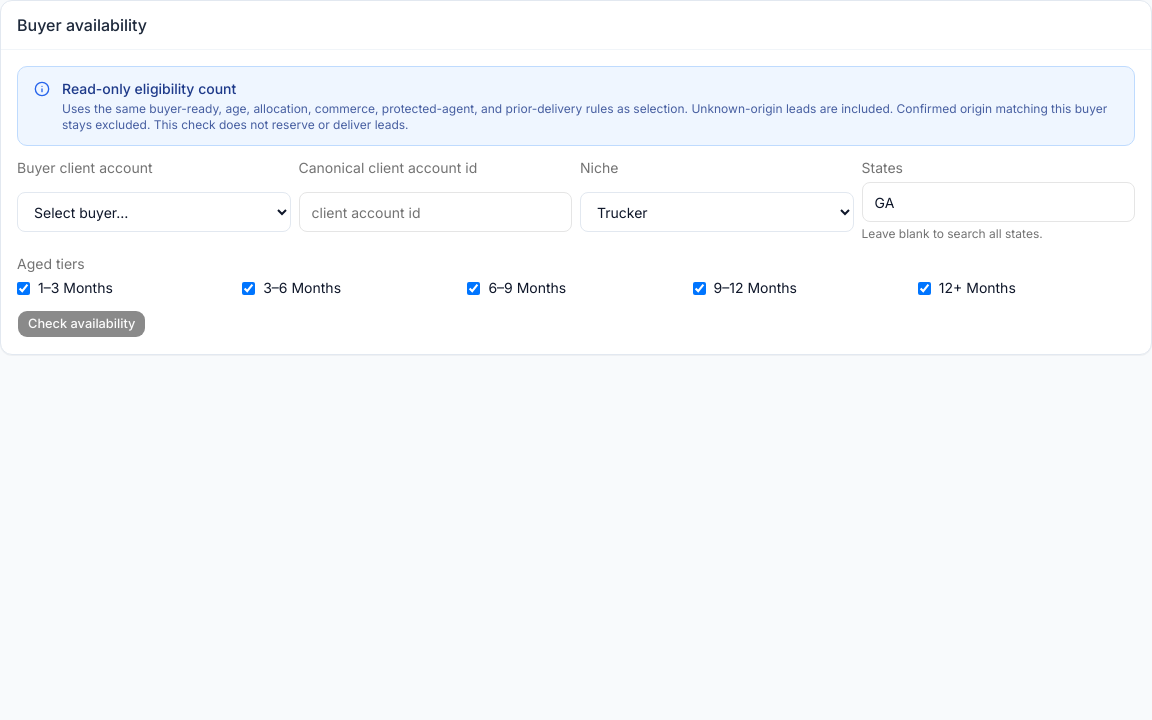
Scenario: BuyerAvailabilityPanel › shows an exact tier count and does not invent a capped total
Select "JR Laird" in the dropdown with test id "buyer-availability-client" at (154, 212), box top-left (17, 192), bottom-right (290, 232)
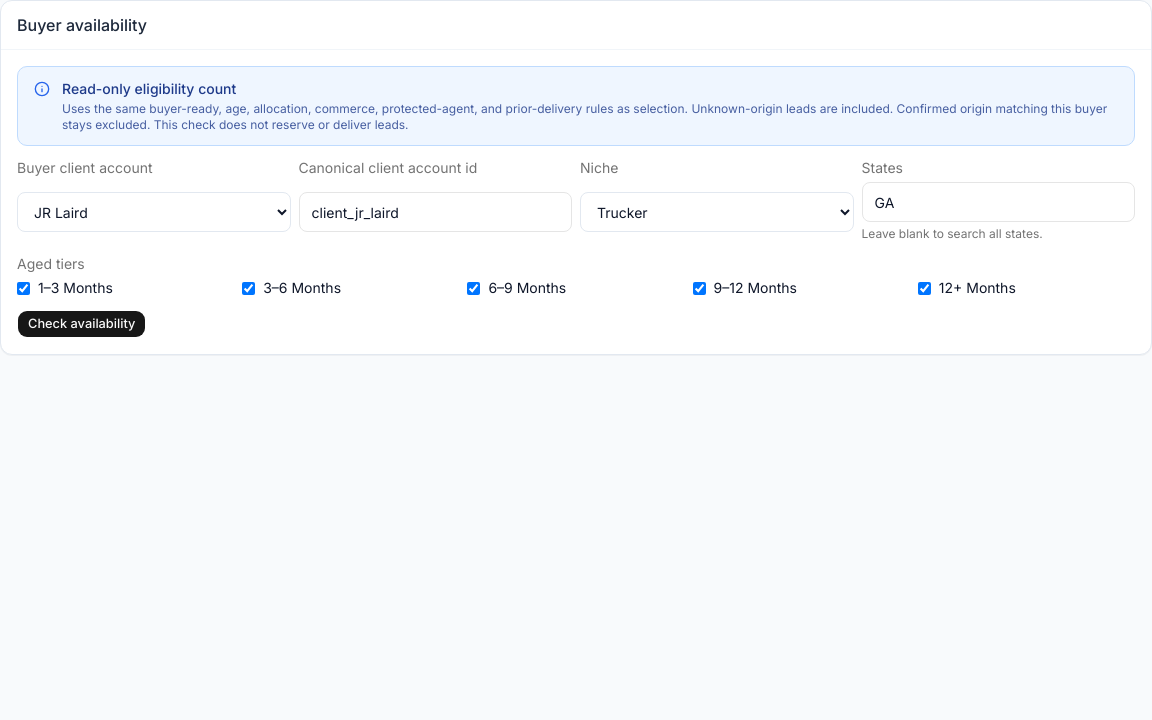
Click the button with test id "buyer-availability-submit" at (82, 324), box top-left (17, 310), bottom-right (146, 338)
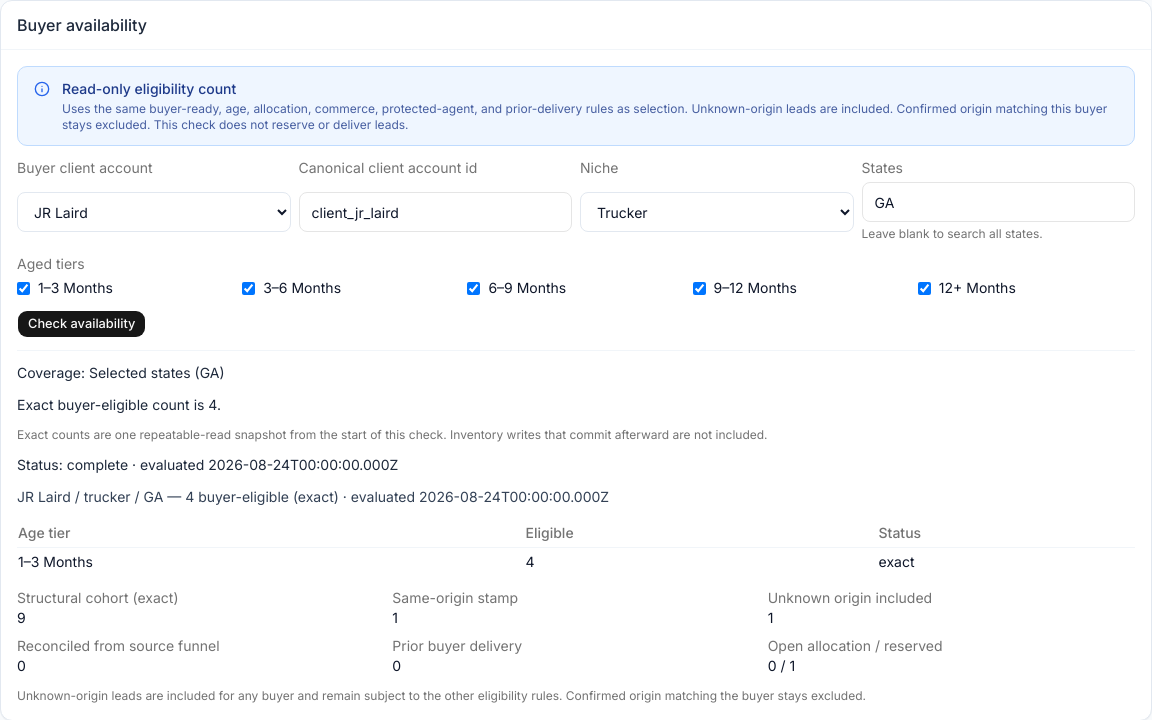
Check: the text with test id "buyer-availability-total" shows "JR Laird", box top-left (17, 488), bottom-right (71, 505)
Check: the text with test id "buyer-availability-total" shows "4 buyer-eligible", box top-left (17, 488), bottom-right (609, 505)
Check: the text with test id "buyer-availability-total" shows "(exact)", box top-left (289, 488), bottom-right (339, 505)
